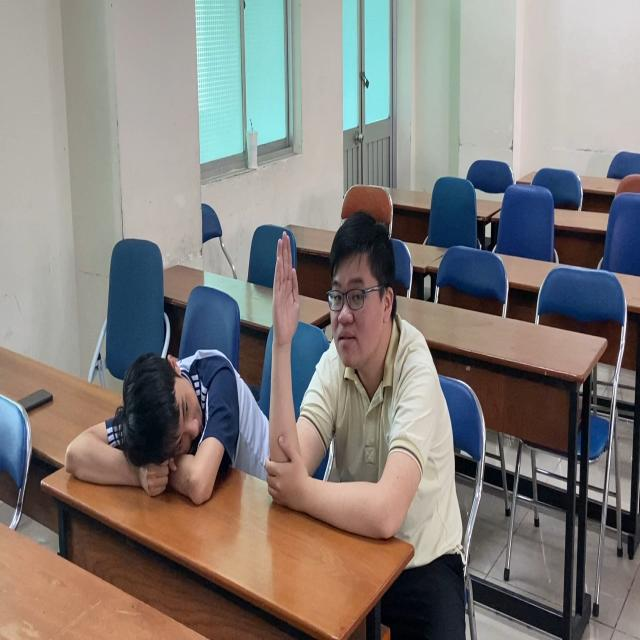raise_hand: (267, 202, 467, 562)
sleep: (61, 337, 271, 500)
